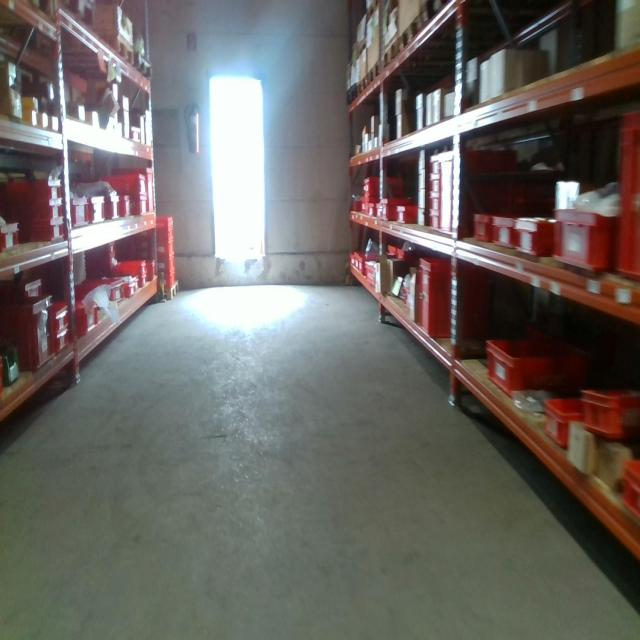pallet: (28, 32, 137, 71), (399, 8, 428, 59), (381, 37, 398, 77), (134, 50, 152, 82), (367, 59, 381, 92), (357, 75, 368, 104), (164, 279, 178, 299)
small_load_carrier: (436, 148, 518, 240), (481, 332, 586, 392), (2, 293, 57, 378), (553, 200, 611, 280), (612, 100, 636, 285), (414, 258, 463, 338), (576, 384, 640, 445), (537, 391, 579, 451), (68, 268, 126, 304), (509, 217, 555, 262), (2, 222, 66, 246), (6, 275, 44, 314), (4, 178, 63, 203), (96, 172, 148, 199), (2, 202, 63, 222), (617, 462, 638, 518), (2, 222, 25, 265), (52, 321, 72, 366), (357, 254, 384, 287), (76, 299, 96, 343), (490, 211, 514, 246), (63, 195, 89, 226), (362, 177, 400, 197), (471, 211, 492, 244), (49, 302, 68, 338), (394, 202, 418, 228), (382, 197, 405, 224), (113, 258, 148, 275), (143, 168, 156, 212), (88, 196, 107, 225), (365, 262, 381, 294), (105, 195, 124, 220), (118, 195, 137, 217), (155, 218, 173, 240), (126, 275, 139, 303), (428, 151, 442, 177), (157, 256, 175, 274), (149, 256, 159, 286), (156, 240, 174, 256), (429, 177, 442, 196), (375, 202, 385, 224), (137, 199, 148, 218), (159, 275, 176, 286), (429, 196, 441, 211), (431, 211, 441, 225), (362, 200, 370, 217), (350, 256, 359, 270), (366, 200, 372, 220), (139, 274, 148, 287), (353, 252, 359, 264)
